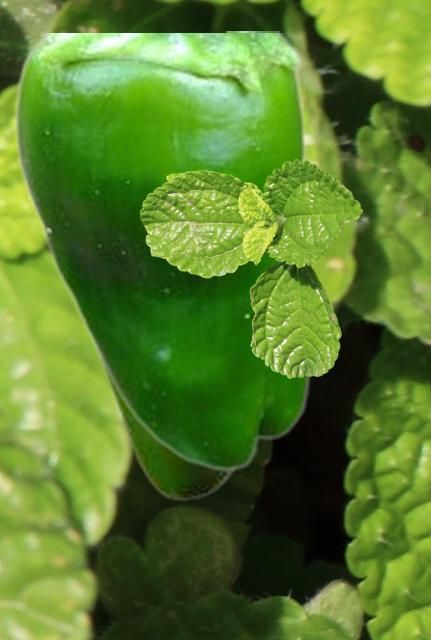green_chili: (12, 33, 311, 471), (83, 329, 238, 501)
